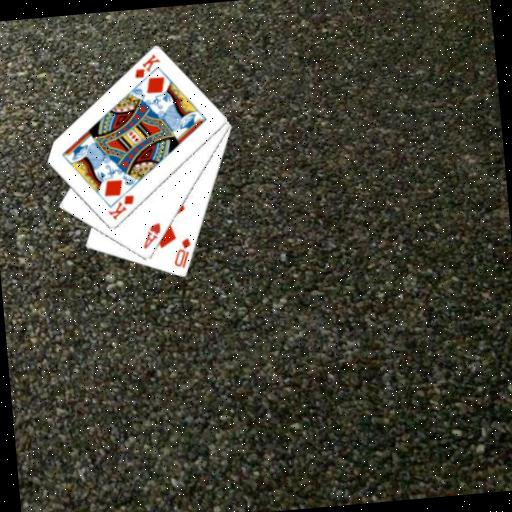10D: (170, 235, 195, 271)
AH: (138, 219, 164, 251)
KD: (104, 192, 138, 222), (130, 51, 163, 81)
